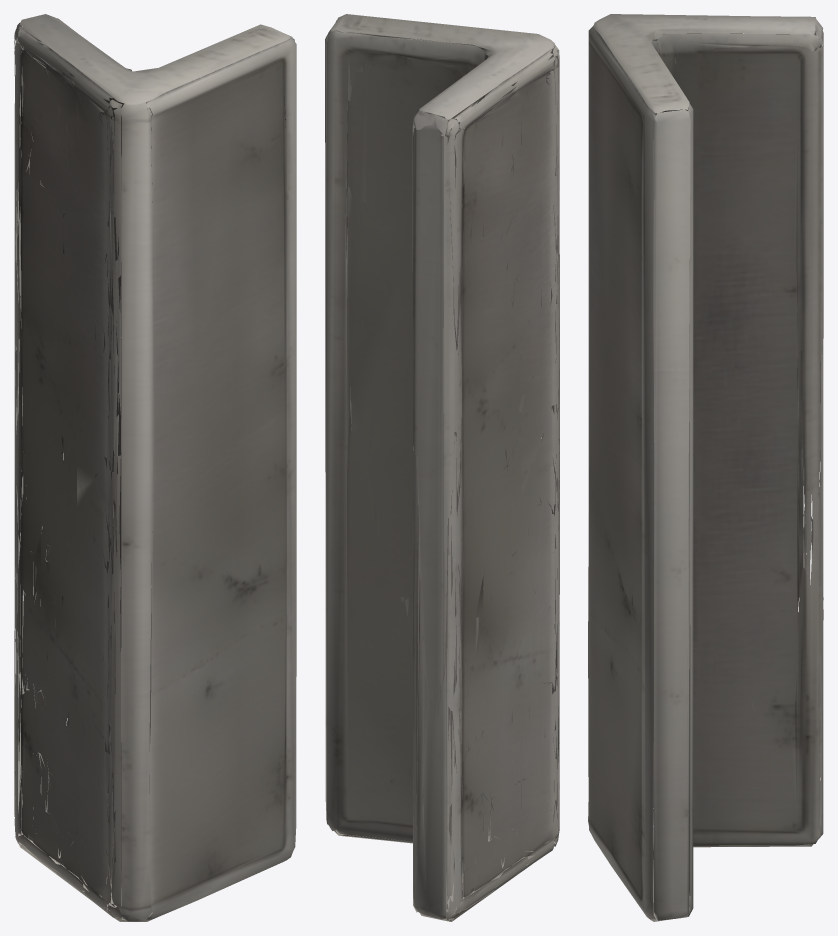
File: wall-corner.glb
3 views of the same model, side by side, from view 1: azimuth 30°, elevation 25°; view 2: azimuth 150°, elevation 25°; view 3: azimuth 270°, elevation 25° (orthographic). The views are drawn at different scales.
Parts seen in each view (by area): view 1: node_0; view 2: node_0; view 3: node_0.
Boxes of the visible parts, box(x1,y1,x2,y2) form: node_0: box(14, 14, 296, 921); node_0: box(325, 14, 559, 921); node_0: box(588, 14, 823, 921).
Bounding box in the file's own units: 0.2998 × 1.14 × 0.2983.
1 material, 1 textured.
